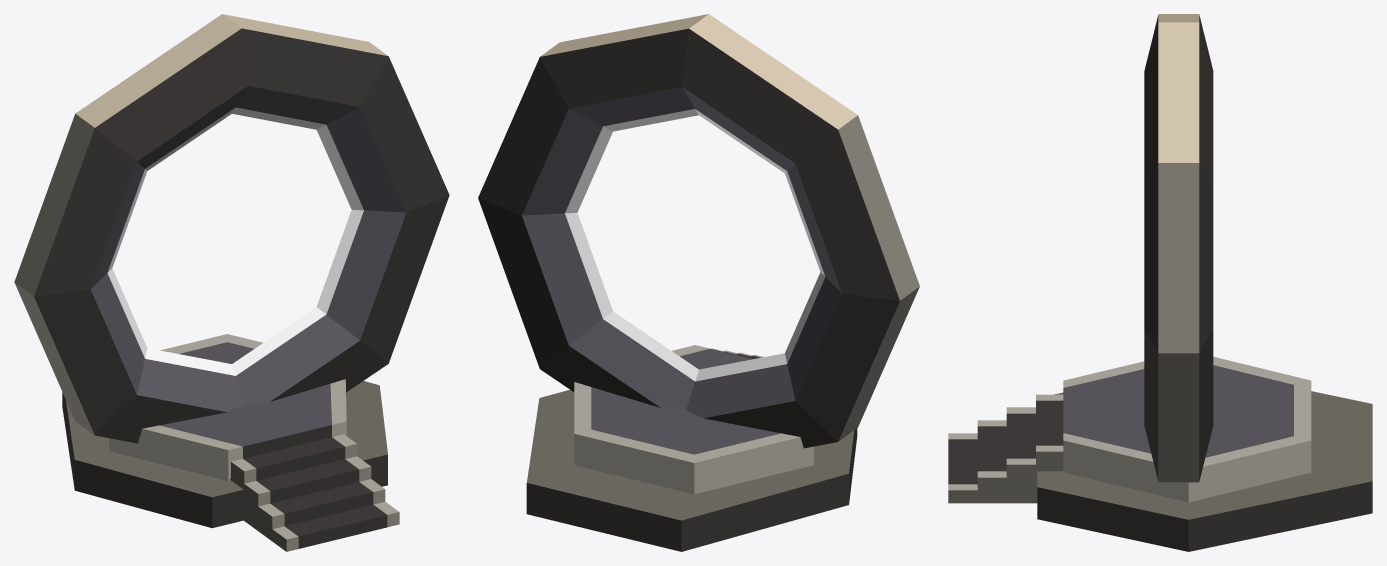
File: TB_Str_WarpGate_Symmetric.FBX
3 views of the same model, side by side, from view 1: azimuth 30°, elevation 25°; view 2: azimuth 150°, elevation 25°; view 3: azimuth 270°, elevation 25° (orthographic). The views are drawn at different scales.
Visible parts, largest first — view 1: TB_Str_WarpGate_Symmetric; view 2: TB_Str_WarpGate_Symmetric; view 3: TB_Str_WarpGate_Symmetric.
Boxes of the visible parts, x1,y1,x2,y2 form: TB_Str_WarpGate_Symmetric: [14, 14, 449, 551]; TB_Str_WarpGate_Symmetric: [478, 14, 919, 551]; TB_Str_WarpGate_Symmetric: [948, 14, 1372, 551].
Bounding box in the file's own units: 6.98 × 7 × 5.95.
